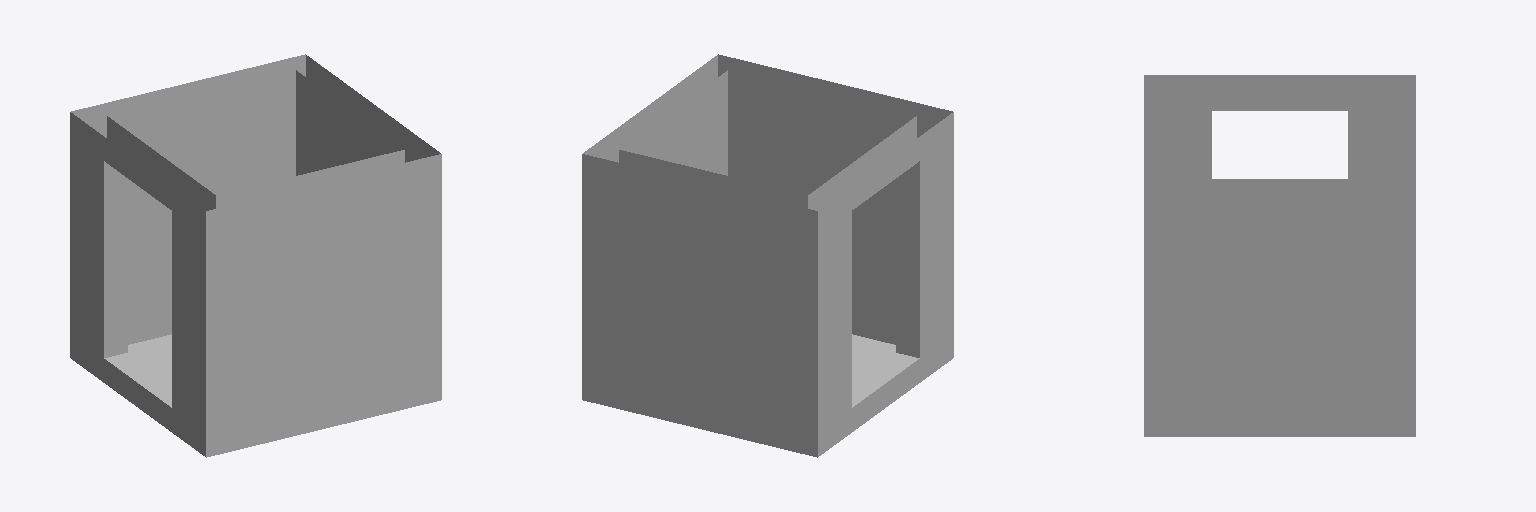
Rendered from worldtile32.obj.
The picture shows the model from 3 angles: view 1: azimuth 30°, elevation 25°; view 2: azimuth 150°, elevation 25°; view 3: azimuth 270°, elevation 25°; orthographic projection.
Parts seen in each view (by area): view 1: objRegroup01; view 2: objRegroup01; view 3: objRegroup01.
Part boxes in pixels (bbox=[...]): objRegroup01: bbox=[70, 54, 441, 457]; objRegroup01: bbox=[582, 54, 953, 457]; objRegroup01: bbox=[1144, 75, 1415, 436].
Size of the model in its own units: 10 by 10 by 10.